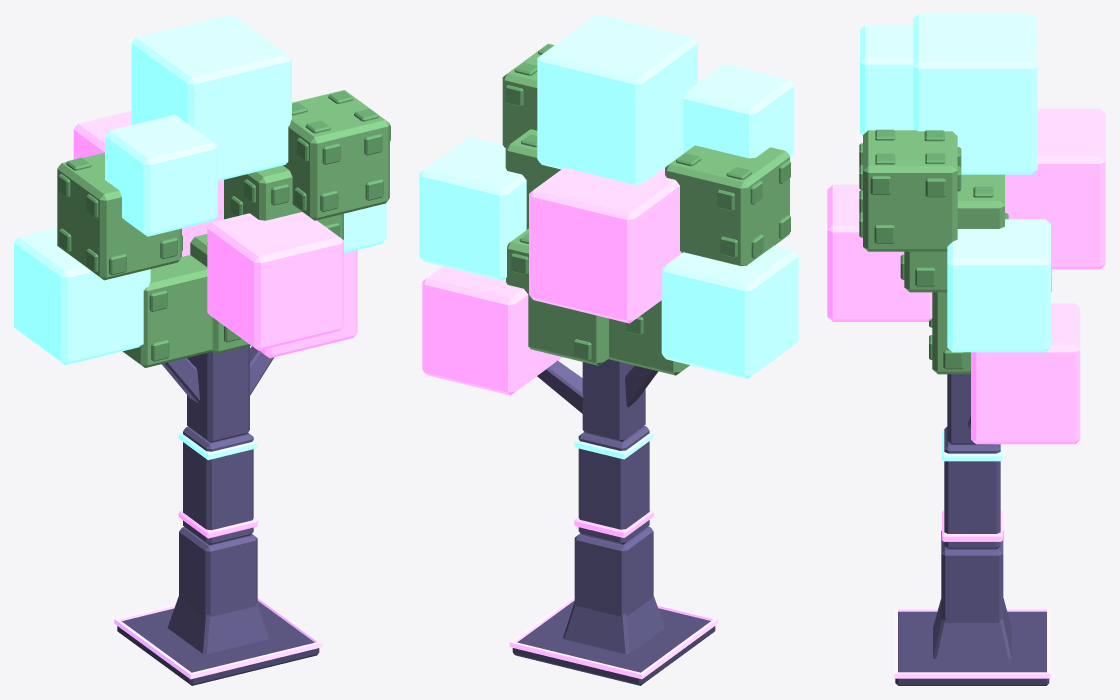
File: NeonTree.fbx
3 views of the same model, side by side, from view 1: azimuth 30°, elevation 25°; view 2: azimuth 150°, elevation 25°; view 3: azimuth 270°, elevation 25° (orthographic). The views are drawn at different scales.
Parts seen in each view (by area): view 1: NeonTree.Cyan, NeonTree.CubesGreen, NeonTree.Trunk, NeonTree.Magenta, NeonTree.CubeStuds, NeonTree.Base, NeonTree.BaseGlow; view 2: NeonTree.Cyan, NeonTree.Magenta, NeonTree.Trunk, NeonTree.CubesGreen, NeonTree.Base, NeonTree.CubeStuds, NeonTree.BaseGlow; view 3: NeonTree.Cyan, NeonTree.Magenta, NeonTree.CubesGreen, NeonTree.Trunk, NeonTree.Base, NeonTree.CubeStuds, NeonTree.BaseGlow.
Part boxes in pixels (x1,y1,x2,y2): NeonTree.Cyan: (14, 14, 386, 460); NeonTree.CubesGreen: (57, 90, 389, 367); NeonTree.Trunk: (162, 346, 273, 654); NeonTree.Magenta: (73, 111, 357, 538); NeonTree.CubeStuds: (58, 91, 390, 361); NeonTree.Base: (117, 601, 319, 685); NeonTree.BaseGlow: (114, 595, 322, 679); NeonTree.Cyan: (419, 14, 798, 459); NeonTree.Magenta: (422, 167, 681, 537); NeonTree.Trunk: (537, 359, 664, 654); NeonTree.CubesGreen: (502, 43, 789, 375); NeonTree.Base: (512, 600, 715, 685); NeonTree.CubeStuds: (505, 44, 790, 360); NeonTree.BaseGlow: (509, 595, 718, 679); NeonTree.Cyan: (860, 14, 1050, 461); NeonTree.Magenta: (827, 108, 1105, 541); NeonTree.CubesGreen: (863, 130, 1004, 374); NeonTree.Trunk: (933, 374, 1011, 659); NeonTree.Base: (895, 611, 1049, 685); NeonTree.CubeStuds: (859, 129, 1051, 369); NeonTree.BaseGlow: (894, 607, 1050, 678).
Bounding box in the file's own units: 6.6 × 11.45 × 4.7.
